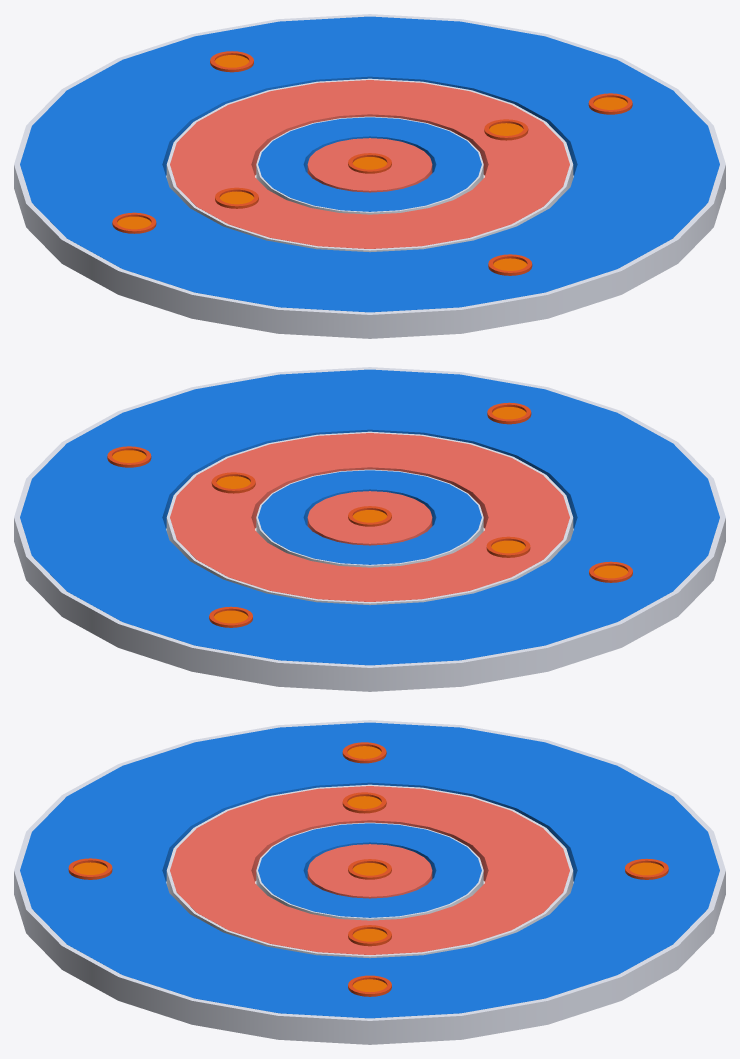
File: fall.fbx
3 views of the same model, one above another, from view 1: azimuth 30°, elevation 25°; view 2: azimuth 150°, elevation 25°; view 3: azimuth 270°, elevation 25° (orthographic).
Parts seen in each view (by area): view 1: cylinderHollow (×6), window_round (×7), cylinder; view 2: cylinderHollow (×6), window_round (×7), cylinder; view 3: cylinderHollow (×6), window_round (×7), cylinder.
Boxes of the visible parts, box(x1,y1,x2,y2) form: cylinderHollow (×6): box(14, 14, 725, 338); window_round (×7): box(112, 51, 632, 275); cylinder: box(307, 138, 432, 192); cylinderHollow (×6): box(14, 367, 725, 691); window_round (×7): box(107, 402, 632, 627); cylinder: box(307, 491, 432, 545); cylinderHollow (×6): box(14, 720, 725, 1044); window_round (×7): box(68, 742, 668, 996); cylinder: box(307, 844, 432, 898).
Bounding box in the file's own units: 132 × 5.55 × 132.
